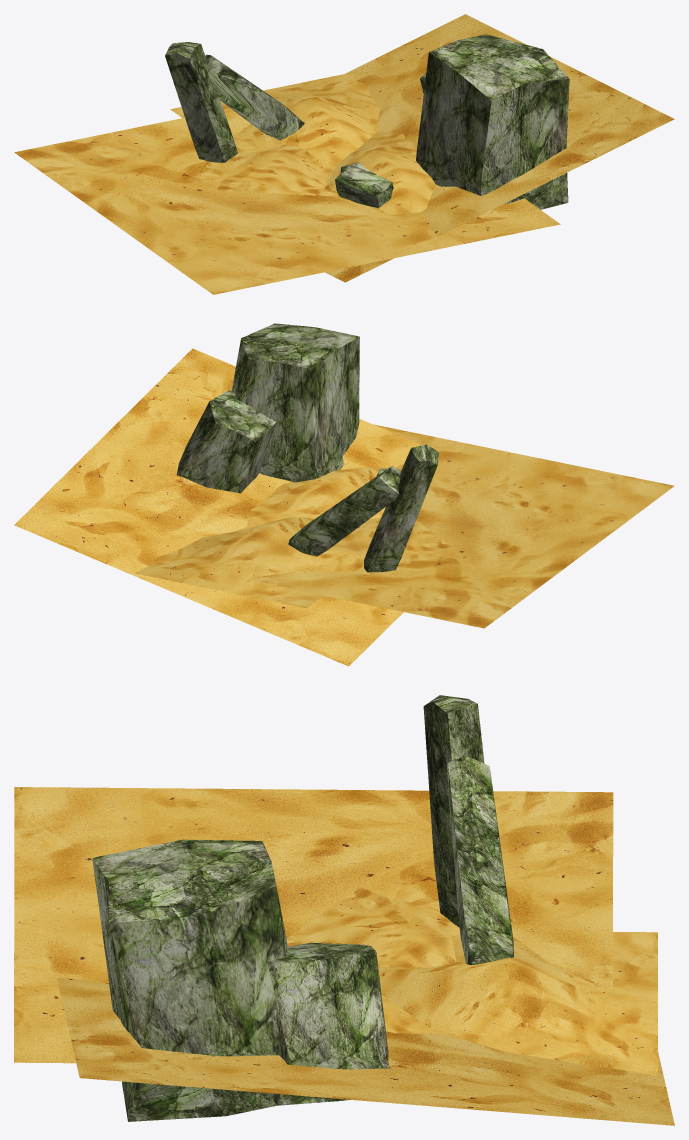
Rendered from desert.glb.
The picture shows the model from 3 angles, top to bottom: view 1: azimuth 30°, elevation 25°; view 2: azimuth 150°, elevation 25°; view 3: azimuth 270°, elevation 25°; orthographic projection. The views are drawn at different scales.
Visible parts, largest first — view 1: Sand.003, RockCliff, Sand.002, Sand.004, RockPillar, Sand.001, Sand, RockPillar.001, BigRock.001; view 2: Sand.002, Sand.003, RockCliff, Sand.004, RockCliff.001, RockPillar, Sand, RockPillar.001, Sand.001; view 3: Sand.003, RockCliff, Sand.002, Sand.004, RockCliff.001, RockPillar.001, Sand.001, RockPillar, Sand.
Part boxes in pixels (<box>): Sand.003: <box>14,82,560,294</box>; RockCliff: <box>416,34,569,209</box>; Sand.002: <box>325,14,674,282</box>; Sand.004: <box>170,73,380,167</box>; RockPillar: <box>165,42,237,162</box>; Sand.001: <box>205,144,339,196</box>; Sand: <box>324,131,435,214</box>; RockPillar.001: <box>205,54,304,140</box>; BigRock.001: <box>335,164,393,208</box>; Sand.002: <box>14,348,421,666</box>; Sand.003: <box>153,424,674,628</box>; RockCliff: <box>231,323,359,482</box>; Sand.004: <box>135,517,362,608</box>; RockCliff.001: <box>176,390,276,493</box>; RockPillar: <box>364,444,439,572</box>; Sand: <box>247,467,385,527</box>; RockPillar.001: <box>288,466,400,556</box>; Sand.001: <box>330,517,451,574</box>; Sand.003: <box>14,787,613,1067</box>; RockCliff: <box>92,839,288,1121</box>; Sand.002: <box>57,977,674,1125</box>; Sand.004: <box>378,932,657,1075</box>; RockCliff.001: <box>267,942,389,1105</box>; RockPillar.001: <box>447,756,513,965</box>; Sand.001: <box>286,887,460,967</box>; RockPillar: <box>423,695,484,927</box>; Sand: <box>381,995,438,1034</box>.
Bounding box in the file's own units: 108 × 39.35 × 85.25.
2 materials, 2 textured.
